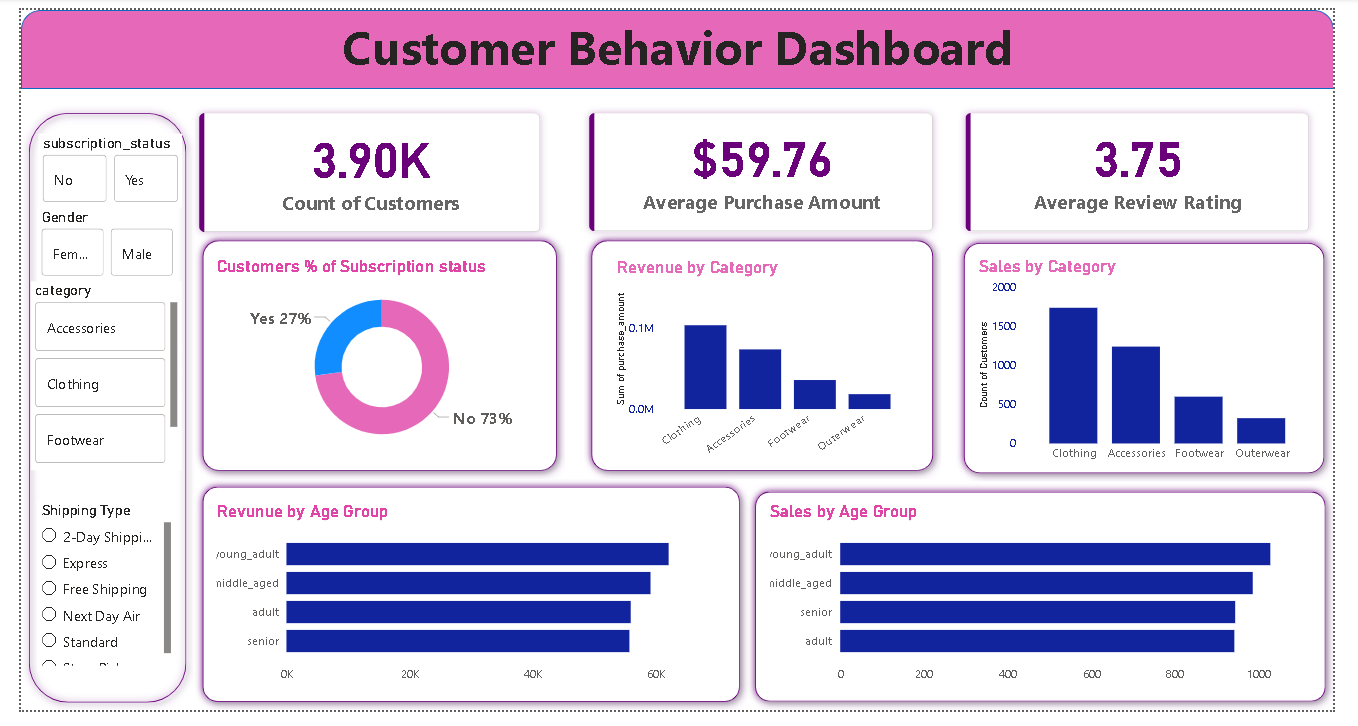

Layout of this report page (visuals, bound fields, positions):
{"tool":"powerbi","page":{"name":"Page 1","canvas":[1500,800],"ordinal":0},"visuals":[{"type":"cardVisual","fields":{"Data":["public customer.Count of Customers"]},"box":[176,90,446,192],"z":0},{"type":"cardVisual","fields":{"Data":["public customer.Average Review Rating"]},"box":[1051,90.2,449.4,191.1],"z":1000},{"type":"cardVisual","fields":{"Data":["public customer.Average Purchase Amount"]},"box":[621,90.2,449.4,191.1],"z":2000},{"type":"shape","box":[0,0,1500.4,90.2],"z":3000},{"type":"textbox","box":[0,0,1500.4,90.2],"z":4000},{"type":"shape","box":[1068.6,256.5,429.9,281.3],"z":5003},{"type":"shape","box":[198.2,254.8,422.9,281.3],"z":5005},{"type":"donutChart","title":"Customers % of Subscription status ","fields":{"Category":["public customer.subscription_status"],"Y":["CountNonNull(public customer.customer_id)"]},"box":[218,282,388,232],"z":5006},{"type":"clusteredColumnChart","title":"Sales by Category","fields":{"Category":["public customer.category"],"Y":["public customer.Count of Customers"]},"box":[1089.9,281.3,391,244.2],"z":5007},{"type":"shape","box":[642.3,254.8,408.7,281.3],"z":5008},{"type":"clusteredColumnChart","title":"Revenue by Category","fields":{"Y":["Sum(public customer.purchase_amount)"],"Category":["public customer.category"]},"box":[675.9,283.1,350.3,242.4],"z":5009},{"type":"shape","box":[0,108,198,692],"z":5010},{"type":"advancedSlicerVisual","fields":{"Values":["public customer.subscription_status"]},"box":[20,142,164,84],"z":5011},{"type":"advancedSlicerVisual","fields":{"Values":["public customer.gender"]},"box":[18,226,160,84],"z":5012},{"type":"advancedSlicerVisual","fields":{"Values":["public customer.category"]},"box":[12,310,172,216],"z":5013},{"type":"listSlicer","fields":{"Values":["public customer.shipping_type"]},"box":[18,562,158,194],"z":5014},{"type":"shape","box":[198,536,632,264],"z":5016},{"type":"clusteredBarChart","title":"Revunue by Age Group","fields":{"Y":["Sum(public customer.purchase_amount)"],"Category":["public customer.age_group"]},"box":[218,562,592,216],"z":5017},{"type":"shape","box":[830,542,670,258],"z":5018},{"type":"clusteredBarChart","title":"Sales by Age Group","fields":{"Y":["public customer.Count of Customers"],"Category":["public customer.age_group"]},"box":[852,562,628,216],"z":5019}]}

Visuals, with their boxes in screenshot pixels (x1, y1, x2, y2), scaled from the page's 1500x800 canvas onto the 1358x726 screenshot:
cardVisual - public customer.Count of Customers: l=159, t=82, r=563, b=256
cardVisual - public customer.Average Review Rating: l=952, t=82, r=1357, b=255
cardVisual - public customer.Average Purchase Amount: l=562, t=82, r=969, b=255
shape: l=0, t=0, r=1357, b=82
textbox: l=0, t=0, r=1357, b=82
shape: l=967, t=233, r=1357, b=488
shape: l=179, t=231, r=562, b=487
"Customers % of Subscription status " donutChart: l=197, t=256, r=549, b=466
"Sales by Category" clusteredColumnChart: l=987, t=255, r=1341, b=477
shape: l=581, t=231, r=952, b=487
"Revenue by Category" clusteredColumnChart: l=612, t=257, r=929, b=477
shape: l=0, t=98, r=179, b=725
advancedSlicerVisual - public customer.subscription_status: l=18, t=129, r=167, b=205
advancedSlicerVisual - public customer.gender: l=16, t=205, r=161, b=281
advancedSlicerVisual - public customer.category: l=11, t=281, r=167, b=477
listSlicer - public customer.shipping_type: l=16, t=510, r=159, b=686
shape: l=179, t=486, r=751, b=725
"Revunue by Age Group" clusteredBarChart: l=197, t=510, r=733, b=706
shape: l=751, t=492, r=1357, b=725
"Sales by Age Group" clusteredBarChart: l=771, t=510, r=1340, b=706
